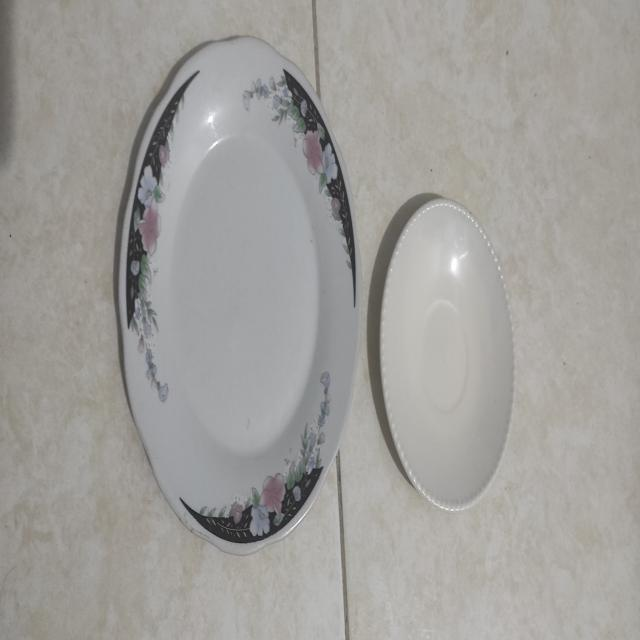non-organic waste: (109, 24, 370, 565), (374, 184, 519, 524)
